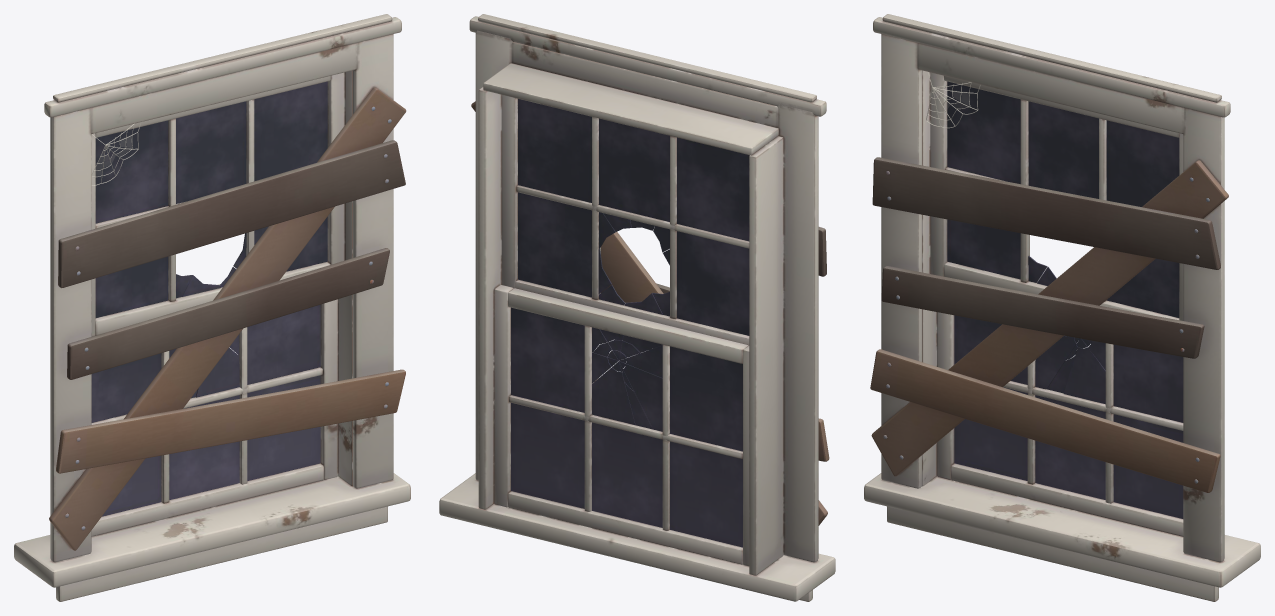
The model's file is boarded-window.glb.
The picture shows the model from 3 angles, left to right: view 1: azimuth 30°, elevation 25°; view 2: azimuth 150°, elevation 25°; view 3: azimuth 330°, elevation 25°; orthographic projection.
Parts seen in each view (by area): view 1: boarded-window_body, boarded-window_web; view 2: boarded-window_body; view 3: boarded-window_body, boarded-window_web.
Part boxes in pixels (x1=…): boarded-window_body: x1=14, y1=14, x2=410, y2=601; boarded-window_web: x1=91, y1=122, x2=140, y2=185; boarded-window_body: x1=439, y1=14, x2=835, y2=601; boarded-window_body: x1=864, y1=14, x2=1260, y2=601; boarded-window_web: x1=926, y1=72, x2=980, y2=128.
Bounding box in the file's own units: 1.2 × 1.62 × 0.235.
3 materials, 1 textured.
